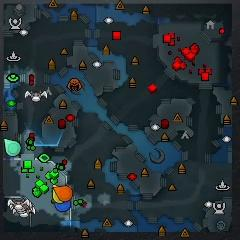p1: (54, 201, 71, 212)
p2: (4, 138, 21, 157)
p4: (52, 184, 63, 204)
p5: (53, 185, 73, 202)
